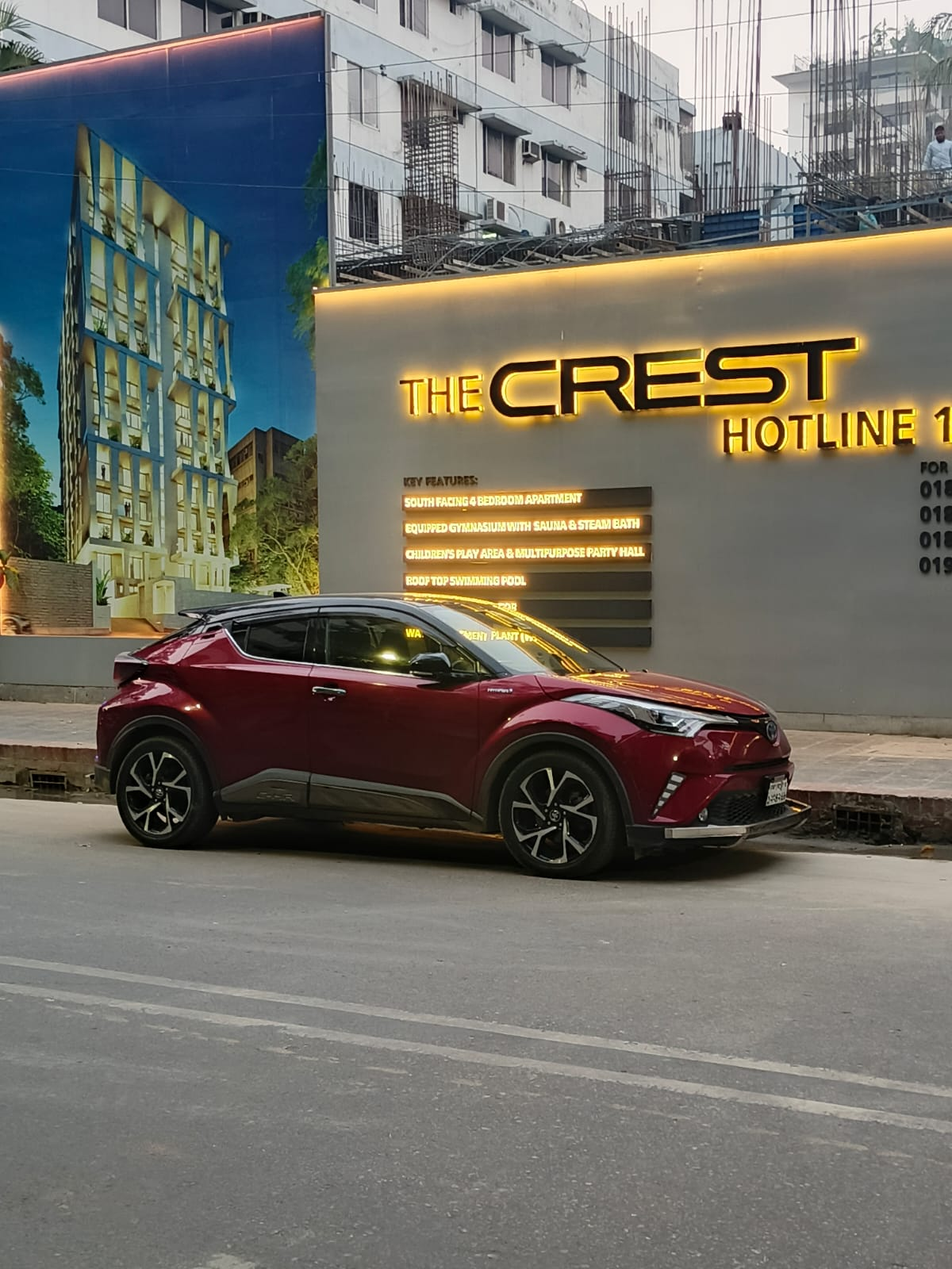private car: (83, 572, 814, 888)
